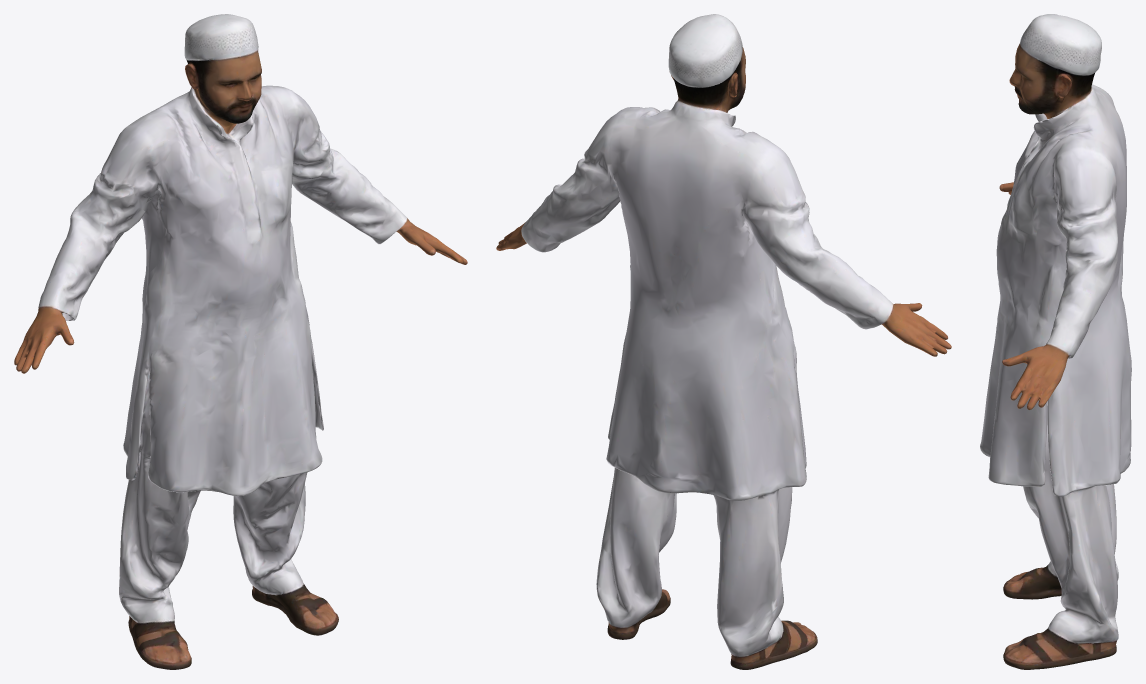
File: npc-kurtacap.glb
3 views of the same model, side by side, from view 1: azimuth 30°, elevation 25°; view 2: azimuth 150°, elevation 25°; view 3: azimuth 270°, elevation 25° (orthographic).
Visible parts, largest first — view 1: SK_NPC_KurtaCap; view 2: SK_NPC_KurtaCap; view 3: SK_NPC_KurtaCap.
Part boxes in pixels (<box>): SK_NPC_KurtaCap: <box>14,14,467,669</box>; SK_NPC_KurtaCap: <box>496,14,951,669</box>; SK_NPC_KurtaCap: <box>980,14,1131,669</box>.
Bounding box in the file's own units: 143 × 189 × 42.68.
1 material, 1 textured.
